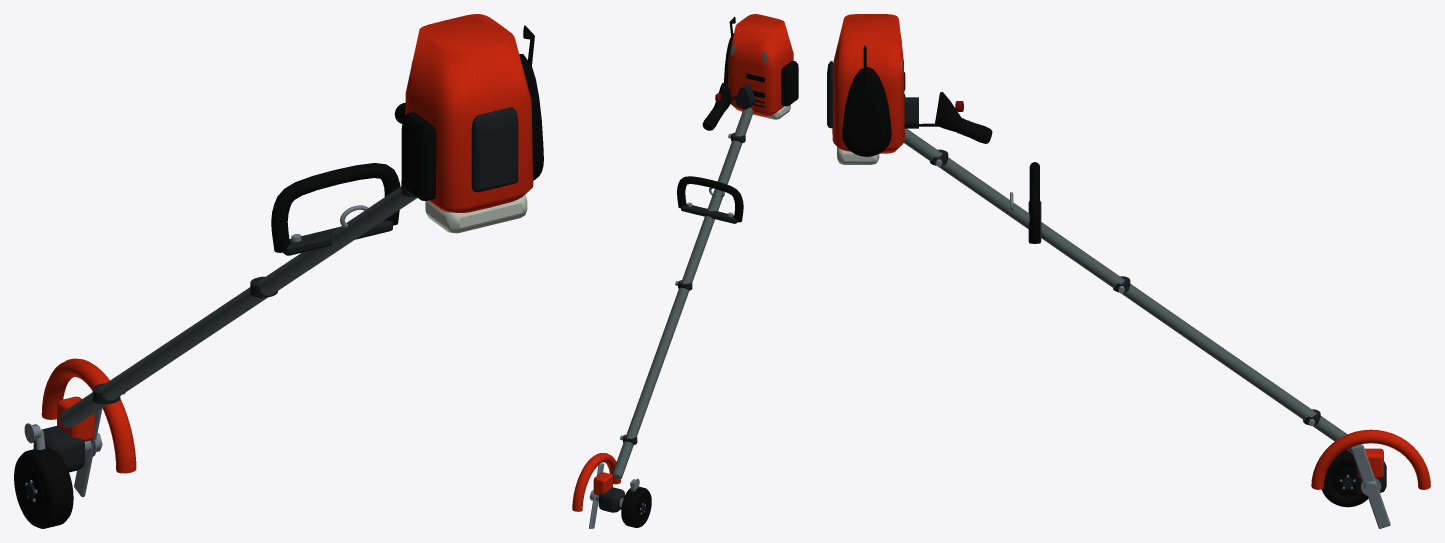
The model's file is GasStickEdger.gltf.
The picture shows the model from 3 angles, left to right: view 1: azimuth 30°, elevation 25°; view 2: azimuth 150°, elevation 25°; view 3: azimuth 270°, elevation 25°; orthographic projection. The views are drawn at different scales.
Visible parts, largest first — view 1: GasStickEdger__Body, GasStickEdger__Wheel_Guide, GasStickEdger__Wheel_Blade; view 2: GasStickEdger__Body, GasStickEdger__Wheel_Guide, GasStickEdger__Wheel_Blade; view 3: GasStickEdger__Body, GasStickEdger__Wheel_Guide, GasStickEdger__Wheel_Blade.
Boxes of the visible parts, box(x1,y1,x2,y2) form: GasStickEdger__Body: box(24, 14, 543, 473); GasStickEdger__Wheel_Guide: box(14, 447, 73, 528); GasStickEdger__Wheel_Blade: box(74, 408, 102, 496); GasStickEdger__Body: box(572, 14, 798, 512); GasStickEdger__Wheel_Guide: box(621, 486, 651, 527); GasStickEdger__Wheel_Blade: box(589, 463, 604, 528); GasStickEdger__Body: box(827, 14, 1430, 492); GasStickEdger__Wheel_Guide: box(1321, 450, 1368, 507); GasStickEdger__Wheel_Blade: box(1351, 444, 1390, 528).
Bounding box in the file's own units: 0.3276 × 1.33 × 1.41.
Materials: 1 (1 with a texture image).
